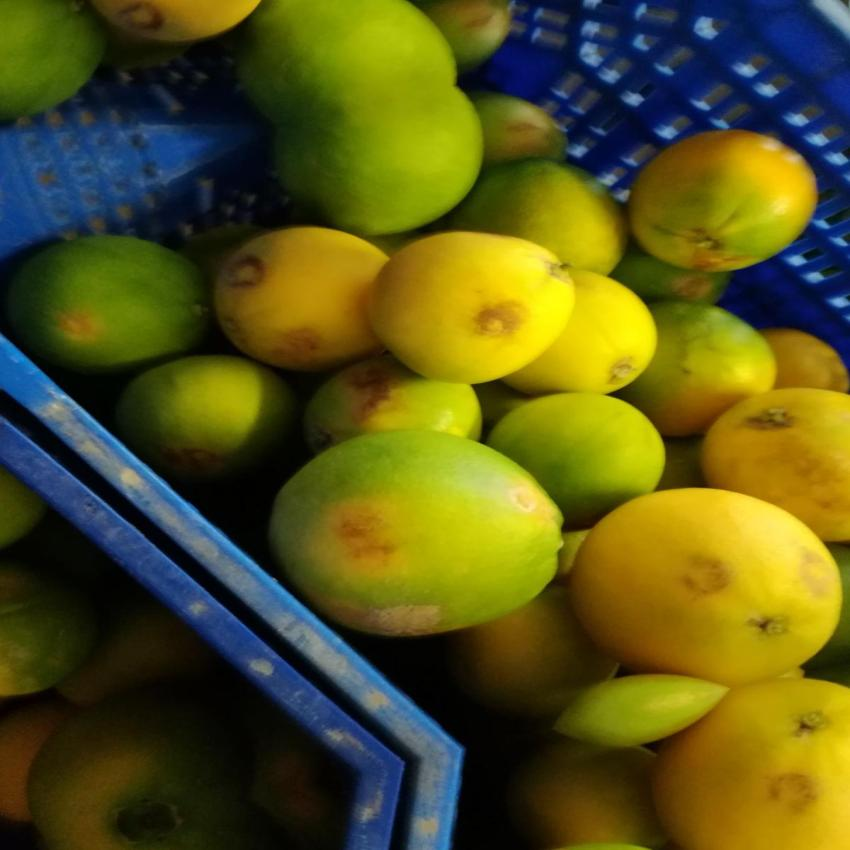Mal estado: (279, 426, 570, 632), (571, 485, 849, 681), (655, 674, 850, 850), (355, 236, 579, 381), (206, 226, 394, 361), (699, 382, 850, 542), (519, 256, 662, 408)
